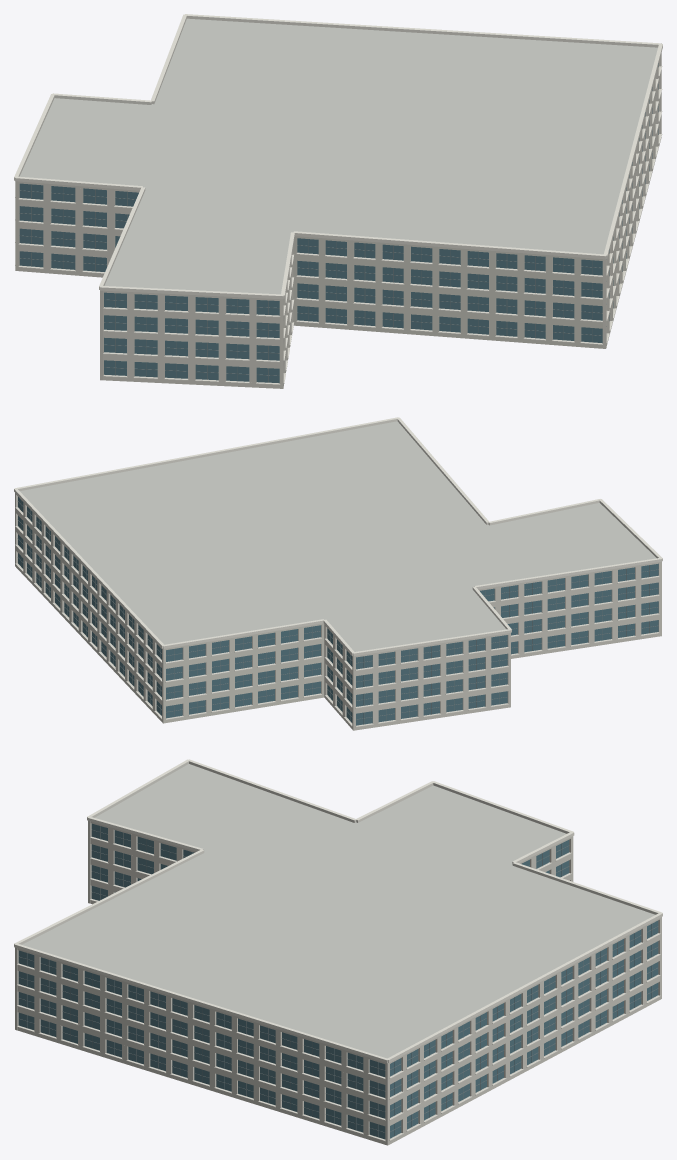
3 renders of one model, top to bottom at view 1: azimuth 30°, elevation 25°; view 2: azimuth 150°, elevation 25°; view 3: azimuth 270°, elevation 25°, orthographic. The views are drawn at different scales.
Visible parts, largest first — view 1: roof, wall, glass, trim, metal; view 2: roof, wall, glass, trim, metal; view 3: roof, wall, glass, trim, metal.
Part boxes in pixels (left/top/right/bottom): roof: left=20, top=18, right=657, bottom=294; wall: left=15, top=53, right=661, bottom=388; glass: left=19, top=63, right=658, bottom=383; trim: left=14, top=14, right=662, bottom=384; metal: left=19, top=82, right=659, bottom=382; roof: left=20, top=421, right=656, bottom=651; wall: left=15, top=493, right=661, bottom=730; glass: left=18, top=497, right=658, bottom=725; trim: left=14, top=417, right=662, bottom=727; metal: left=17, top=500, right=658, bottom=724; roof: left=22, top=764, right=655, bottom=1058; wall: left=15, top=821, right=661, bottom=1145; glass: left=18, top=823, right=658, bottom=1139; trim: left=14, top=759, right=662, bottom=1141; metal: left=19, top=826, right=658, bottom=1136.
Bounding box in the file's own units: 98.19 × 13.04 × 89.46.
